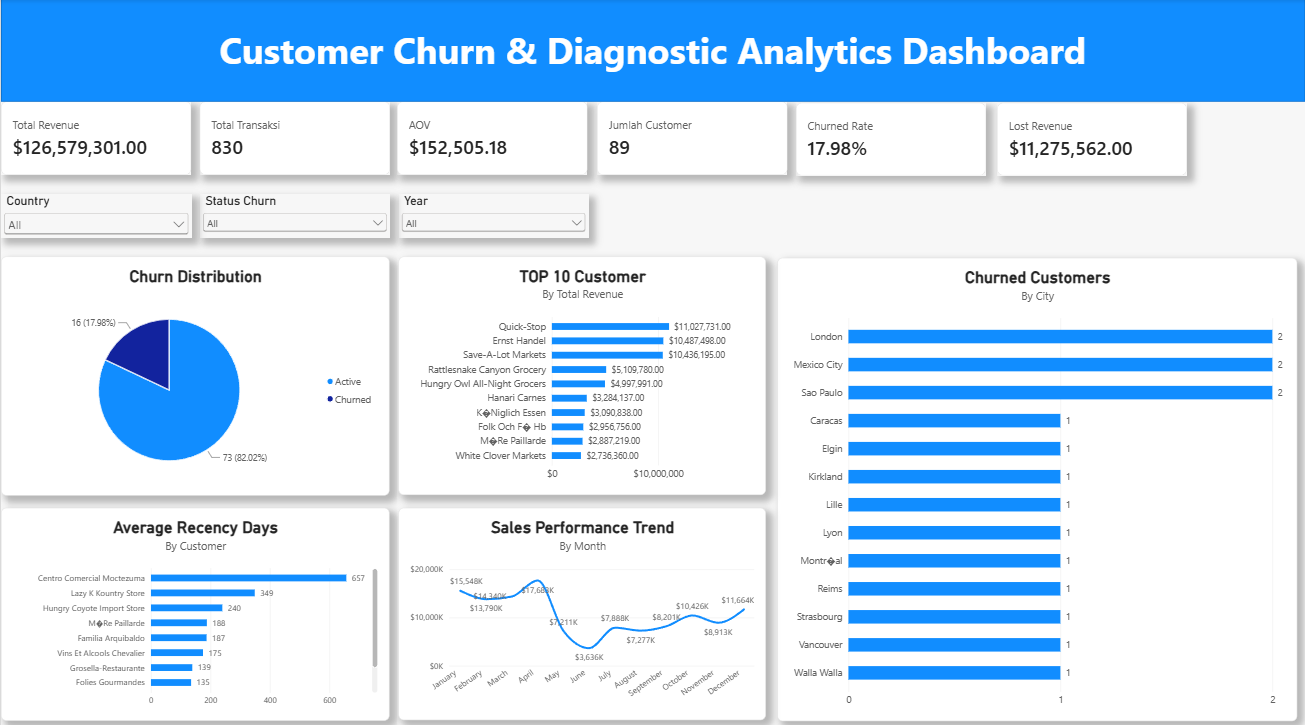

Layout of this report page (visuals, bound fields, positions):
{"tool":"powerbi","page":{"name":"Executive Overview","canvas":[1920,1080],"ordinal":0},"visuals":[{"type":"cardVisual","fields":{"Data":["meassure.Total Revenue"]},"box":[0,151,280,108],"z":0},{"type":"cardVisual","fields":{"Data":["meassure.Total Transaksi"]},"box":[292,151,280,108],"z":1000},{"type":"cardVisual","fields":{"Data":["meassure.AOV"]},"box":[584,151,280,108],"z":2000},{"type":"pieChart","title":"Churn Distribution","fields":{"Category":["public customer_master_pipeline.Status Churn"],"Y":["CountNonNull(public customer_master_pipeline.Status Churn)"]},"box":[0,378.3,571.7,351.7],"z":3000},{"type":"clusteredBarChart","title":"Average Recency Days","fields":{"Category":["public customer_master_pipeline.company_name"],"Y":["Avg(public customer_master_pipeline.recency_days)"]},"box":[0,750,571.7,313.3],"z":4000},{"type":"clusteredBarChart","title":"Churned Customers","fields":{"Category":["public customer_master_pipeline.city"],"Y":["CountNonNull(public customer_master_pipeline.Status Churn)"]},"box":[1143.5,380.4,765.2,682.6],"z":5000},{"type":"cardVisual","fields":{"Data":["meassure.Jumlah Customer"]},"box":[878,151,280,108],"z":6000},{"type":"cardVisual","fields":{"Data":["meassure.Churned Rate"]},"box":[1171,152,279.9,107],"z":7000},{"type":"cardVisual","fields":{"Data":["meassure.Lost Revenue"]},"box":[1466,152,279.9,107],"z":8000},{"type":"shape","box":[0,0,1920.4,151],"z":9000},{"type":"clusteredBarChart","title":"TOP 10 Customer","fields":{"Category":["public customer_master_pipeline.company_name"],"Y":["meassure.Total Revenue"]},"box":[584.6,379.5,541,351.3],"z":10000},{"type":"lineChart","title":"Sales Performance Trend","fields":{"Category":["public orders.orderDate.Variation.Date Hierarchy.Month"],"Y":["meassure.Revenue Bulanan"]},"box":[584.6,750,541,312.8],"z":11000},{"type":"textbox","box":[0,39.1,1919.6,76.1],"z":12000},{"type":"slicer","fields":{"Values":["public customer_master_pipeline.Status Churn"]},"box":[292.2,286.7,280,64.4],"z":13000},{"type":"slicer","fields":{"Values":["public orders.orderDate.Variation.Date Hierarchy.Year"]},"box":[584.4,286.7,280,64.4],"z":14000},{"type":"slicer","fields":{"Values":["public customer_master_pipeline.country"]},"box":[0,286.7,281.1,64.4],"z":15000}]}

Visuals, with their boxes in screenshot pixels (x1, y1, x2, y2), scaled from the page's 1920x1080 canvas onto the 1305x725 screenshot:
cardVisual - meassure.Total Revenue: l=0, t=101, r=190, b=174
cardVisual - meassure.Total Transaksi: l=198, t=101, r=389, b=174
cardVisual - meassure.AOV: l=397, t=101, r=587, b=174
"Churn Distribution" pieChart: l=0, t=254, r=389, b=490
"Average Recency Days" clusteredBarChart: l=0, t=503, r=389, b=714
"Churned Customers" clusteredBarChart: l=777, t=255, r=1297, b=714
cardVisual - meassure.Jumlah Customer: l=597, t=101, r=787, b=174
cardVisual - meassure.Churned Rate: l=796, t=102, r=986, b=174
cardVisual - meassure.Lost Revenue: l=996, t=102, r=1187, b=174
shape: l=0, t=0, r=1304, b=101
"TOP 10 Customer" clusteredBarChart: l=397, t=255, r=765, b=491
"Sales Performance Trend" lineChart: l=397, t=503, r=765, b=713
textbox: l=0, t=26, r=1304, b=77
slicer - public customer_master_pipeline.Status Churn: l=199, t=192, r=389, b=236
slicer - public orders.orderDate.Variation.Date Hierarchy.Year: l=397, t=192, r=588, b=236
slicer - public customer_master_pipeline.country: l=0, t=192, r=191, b=236
